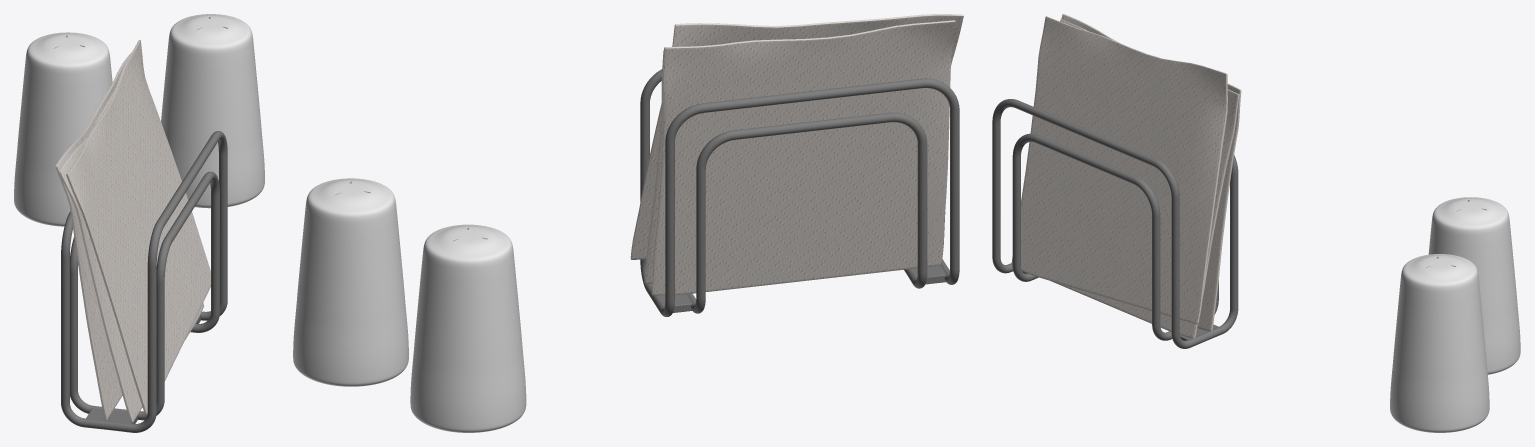
File: saltandpapper.fbx
3 views of the same model, side by side, from view 1: azimuth 30°, elevation 25°; view 2: azimuth 150°, elevation 25°; view 3: azimuth 270°, elevation 25° (orthographic). The views are drawn at different scales.
Parts seen in each view (by area): view 1: Salt&paperTowelsOBJ.002, Salt&paperTowelsOBJ.001, Salt&paperTowelsOBJ; view 2: Salt&paperTowelsOBJ.002, Salt&paperTowelsOBJ.001, Salt&paperTowelsOBJ; view 3: Salt&paperTowelsOBJ.002, Salt&paperTowelsOBJ.001, Salt&paperTowelsOBJ.
Boxes of the visible parts, left/top/right/bottom form: Salt&paperTowelsOBJ.002: left=55, top=40, right=210, bottom=422; Salt&paperTowelsOBJ.001: left=14, top=14, right=264, bottom=226; Salt&paperTowelsOBJ: left=61, top=131, right=227, bottom=432; Salt&paperTowelsOBJ.002: left=630, top=14, right=963, bottom=295; Salt&paperTowelsOBJ.001: left=293, top=178, right=526, bottom=432; Salt&paperTowelsOBJ: left=640, top=69, right=959, bottom=316; Salt&paperTowelsOBJ.002: left=1011, top=14, right=1241, bottom=338; Salt&paperTowelsOBJ.001: left=1390, top=197, right=1520, bottom=432; Salt&paperTowelsOBJ: left=992, top=99, right=1238, bottom=348.
Size of the model in its own units: 2103 by 1373 by 2567.
